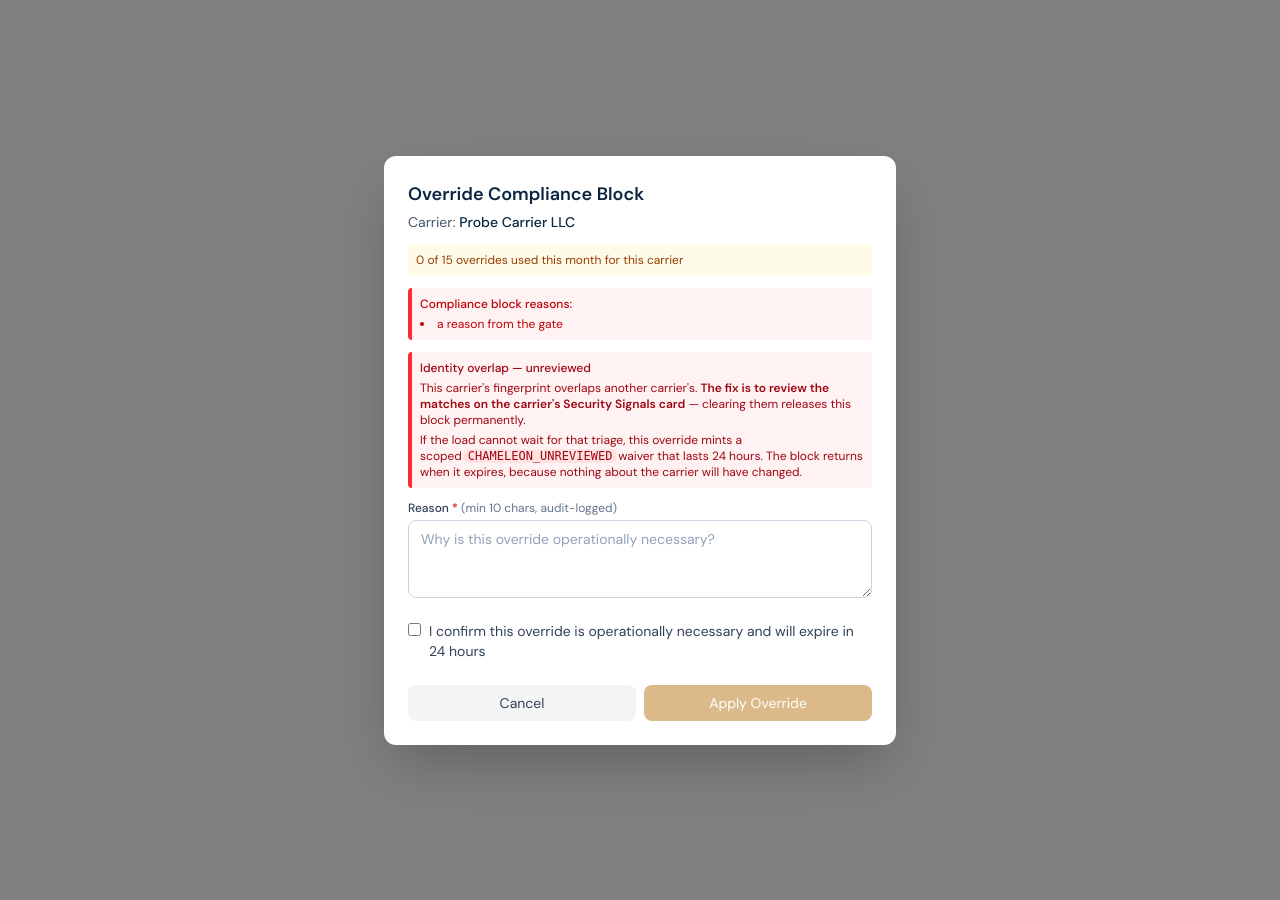
Test case: OverrideComplianceModal disables submit on any overridable:false code › control: a waivable-only block leaves submit ENABLED once the form is filled
Type "a reason long enough to pass the ten-character floor" into the text box at coordinates (640, 558), box [408, 520, 872, 598]
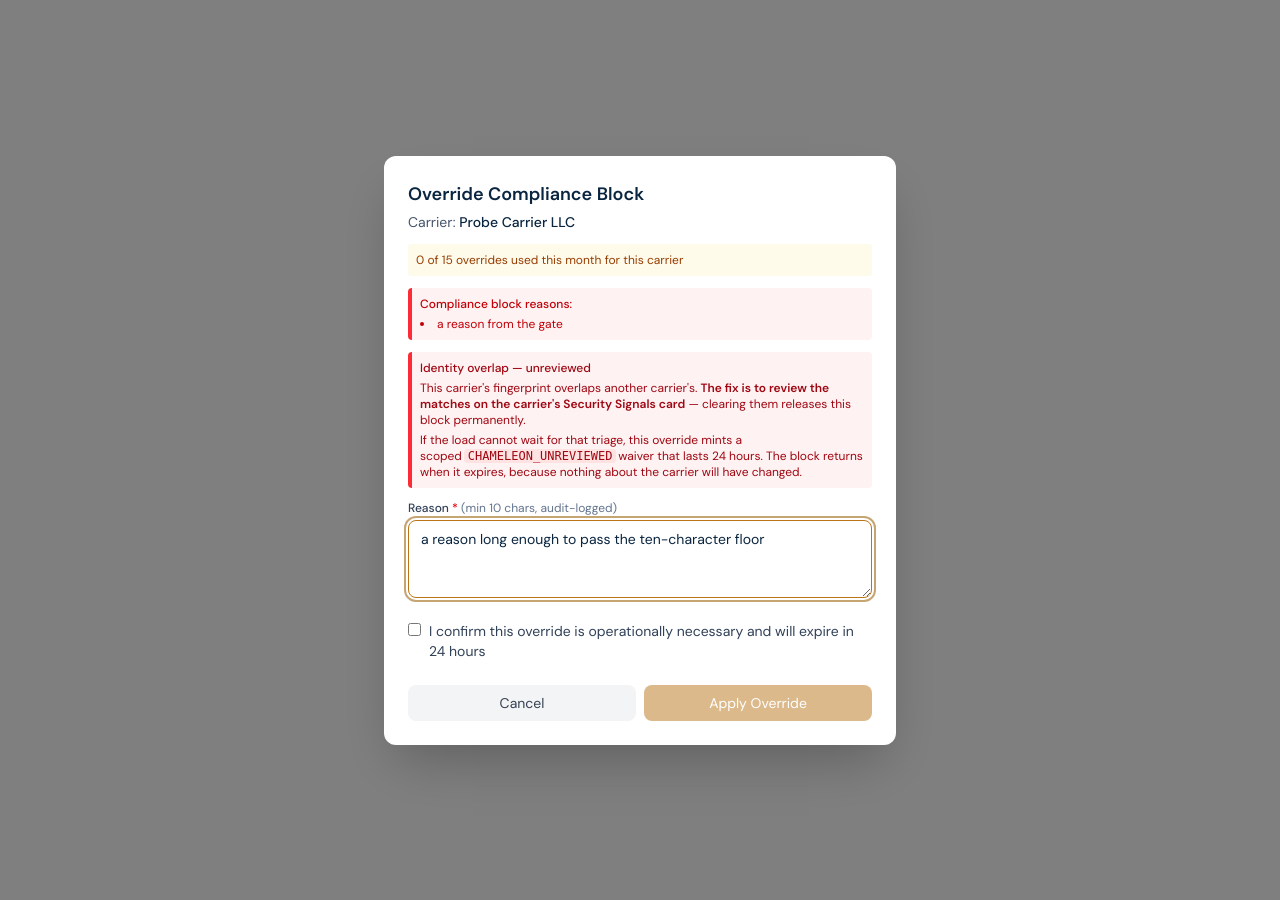
Click the checkbox at coordinates (414, 629), box [408, 622, 421, 636]
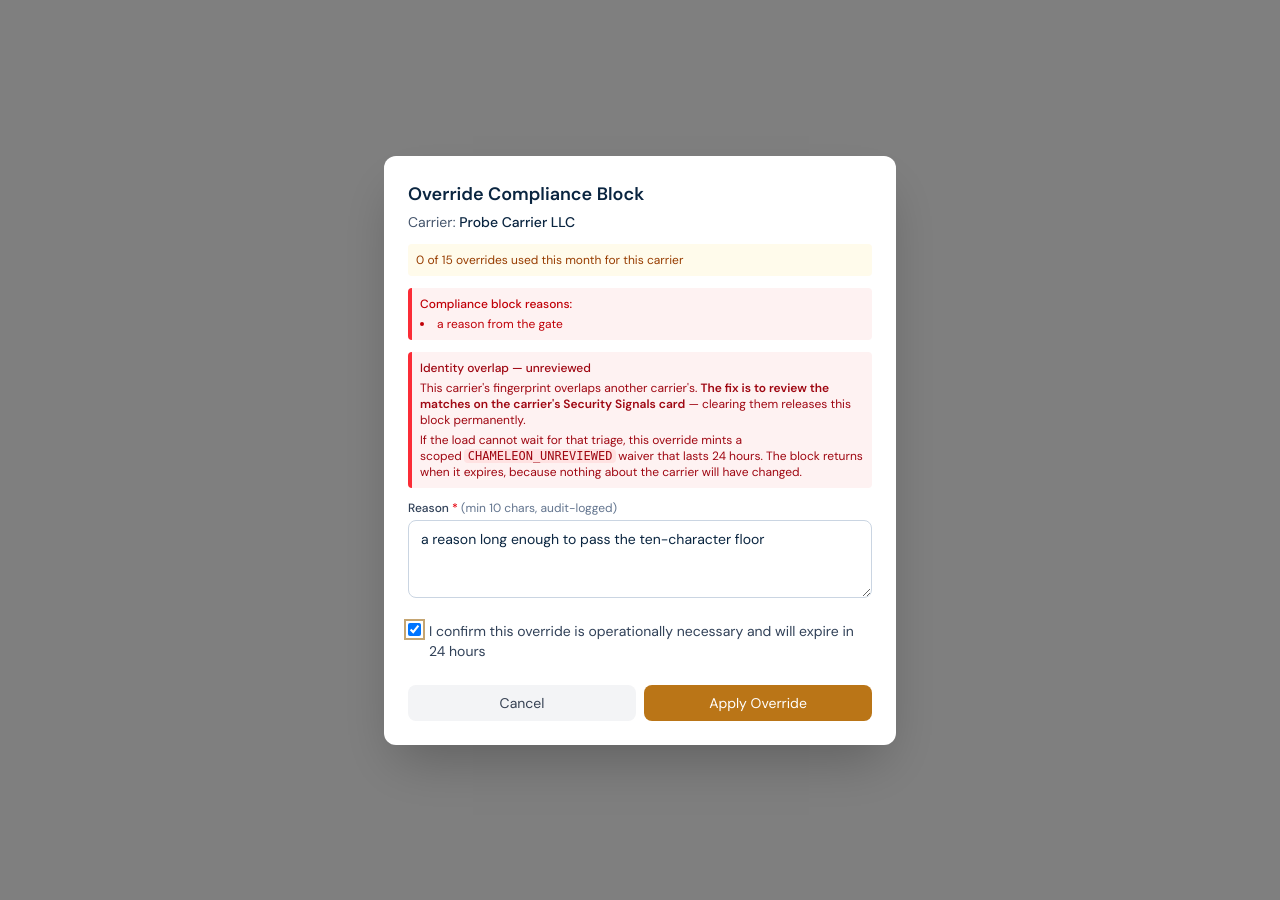
Check: the button with test id "apply-override-btn" is enabled, box [644, 684, 872, 720]
